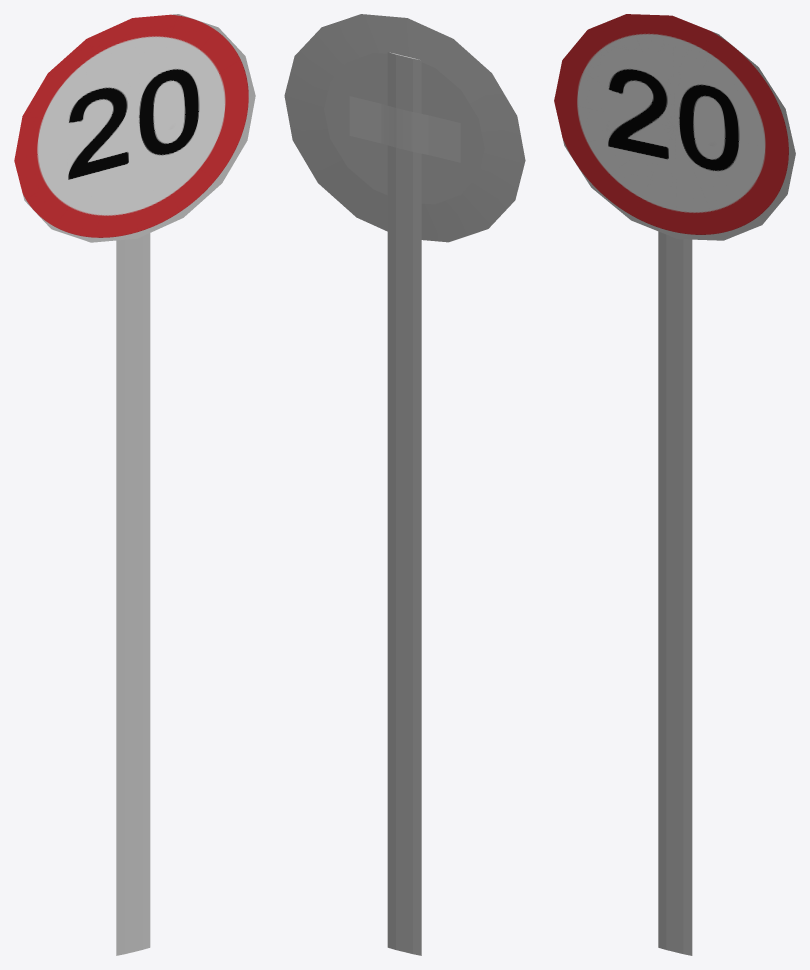
3 renders of one model, left to right at view 1: azimuth 30°, elevation 25°; view 2: azimuth 150°, elevation 25°; view 3: azimuth 330°, elevation 25°, orthographic.
Visible parts, largest first — view 1: Sign_Circle.005; view 2: Sign_Circle.005; view 3: Sign_Circle.005.
Boxes of the visible parts, left/top/right/bottom form: Sign_Circle.005: left=14, top=14, right=255, bottom=955; Sign_Circle.005: left=284, top=14, right=525, bottom=955; Sign_Circle.005: left=554, top=14, right=795, bottom=955.
Bounding box in the file's own units: 0.6353 × 0.00621 × 2.35.
3 materials, 1 textured.
